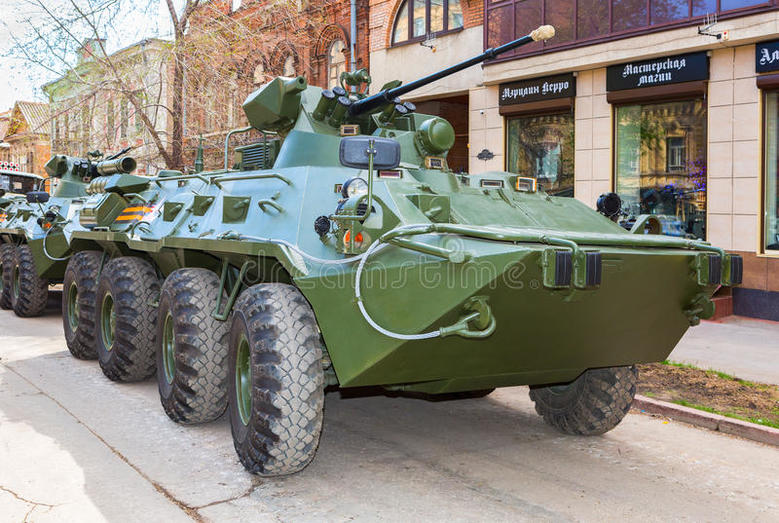btr: (79, 149, 716, 452)
